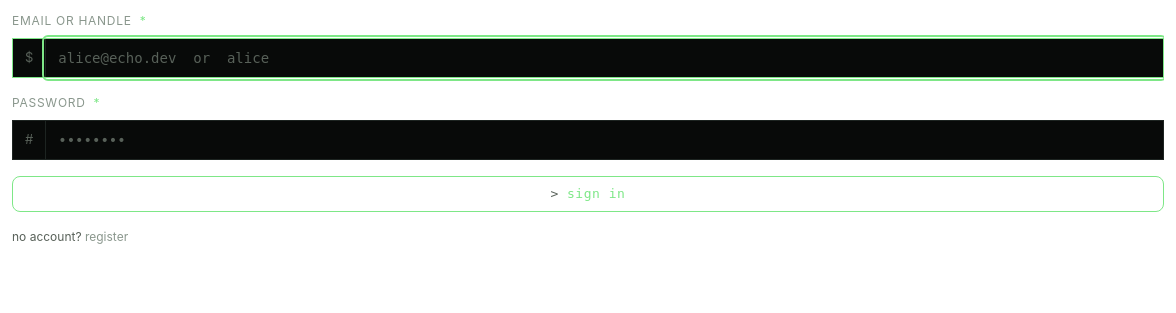
Test: LoginForm › shows generic error for non-ApiError exceptions
Type "alice@echo.dev" into the field labelled "email or handle *" at point(605, 58), box [46,39,1163,77]
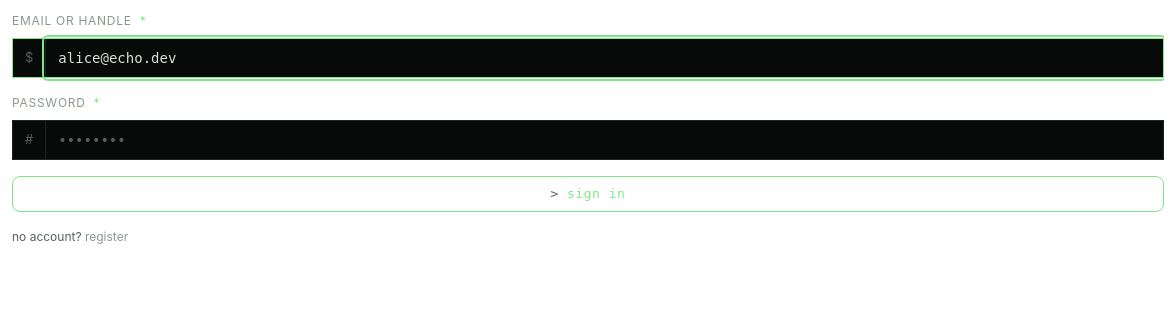
Type "password123" into the password field labelled "password *" at point(605, 140), box [46,121,1163,159]
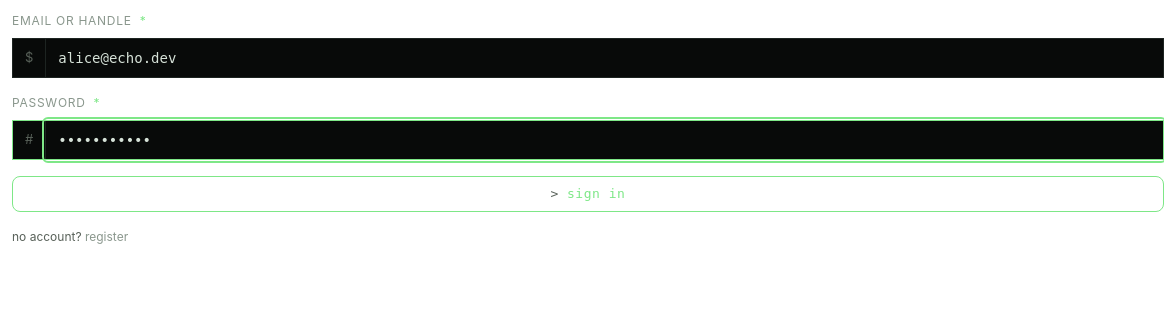
Click the button "> sign in" at point(588, 194), box [12,176,1164,212]
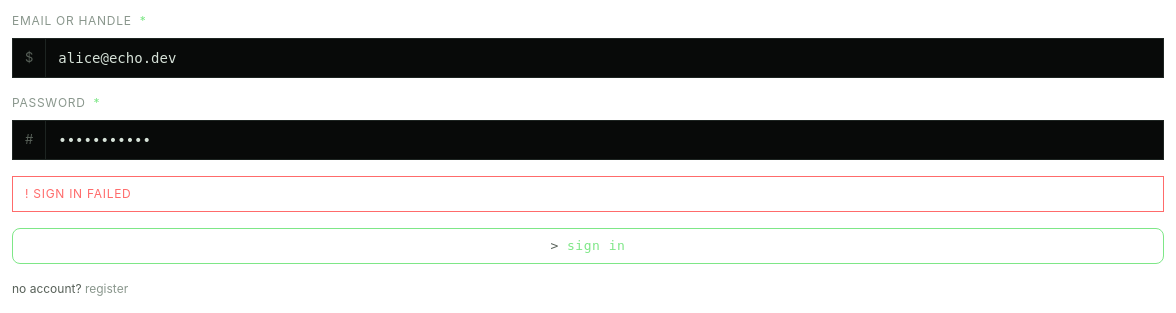
Now the message reads "sign in failed", box [33,186,132,201]
